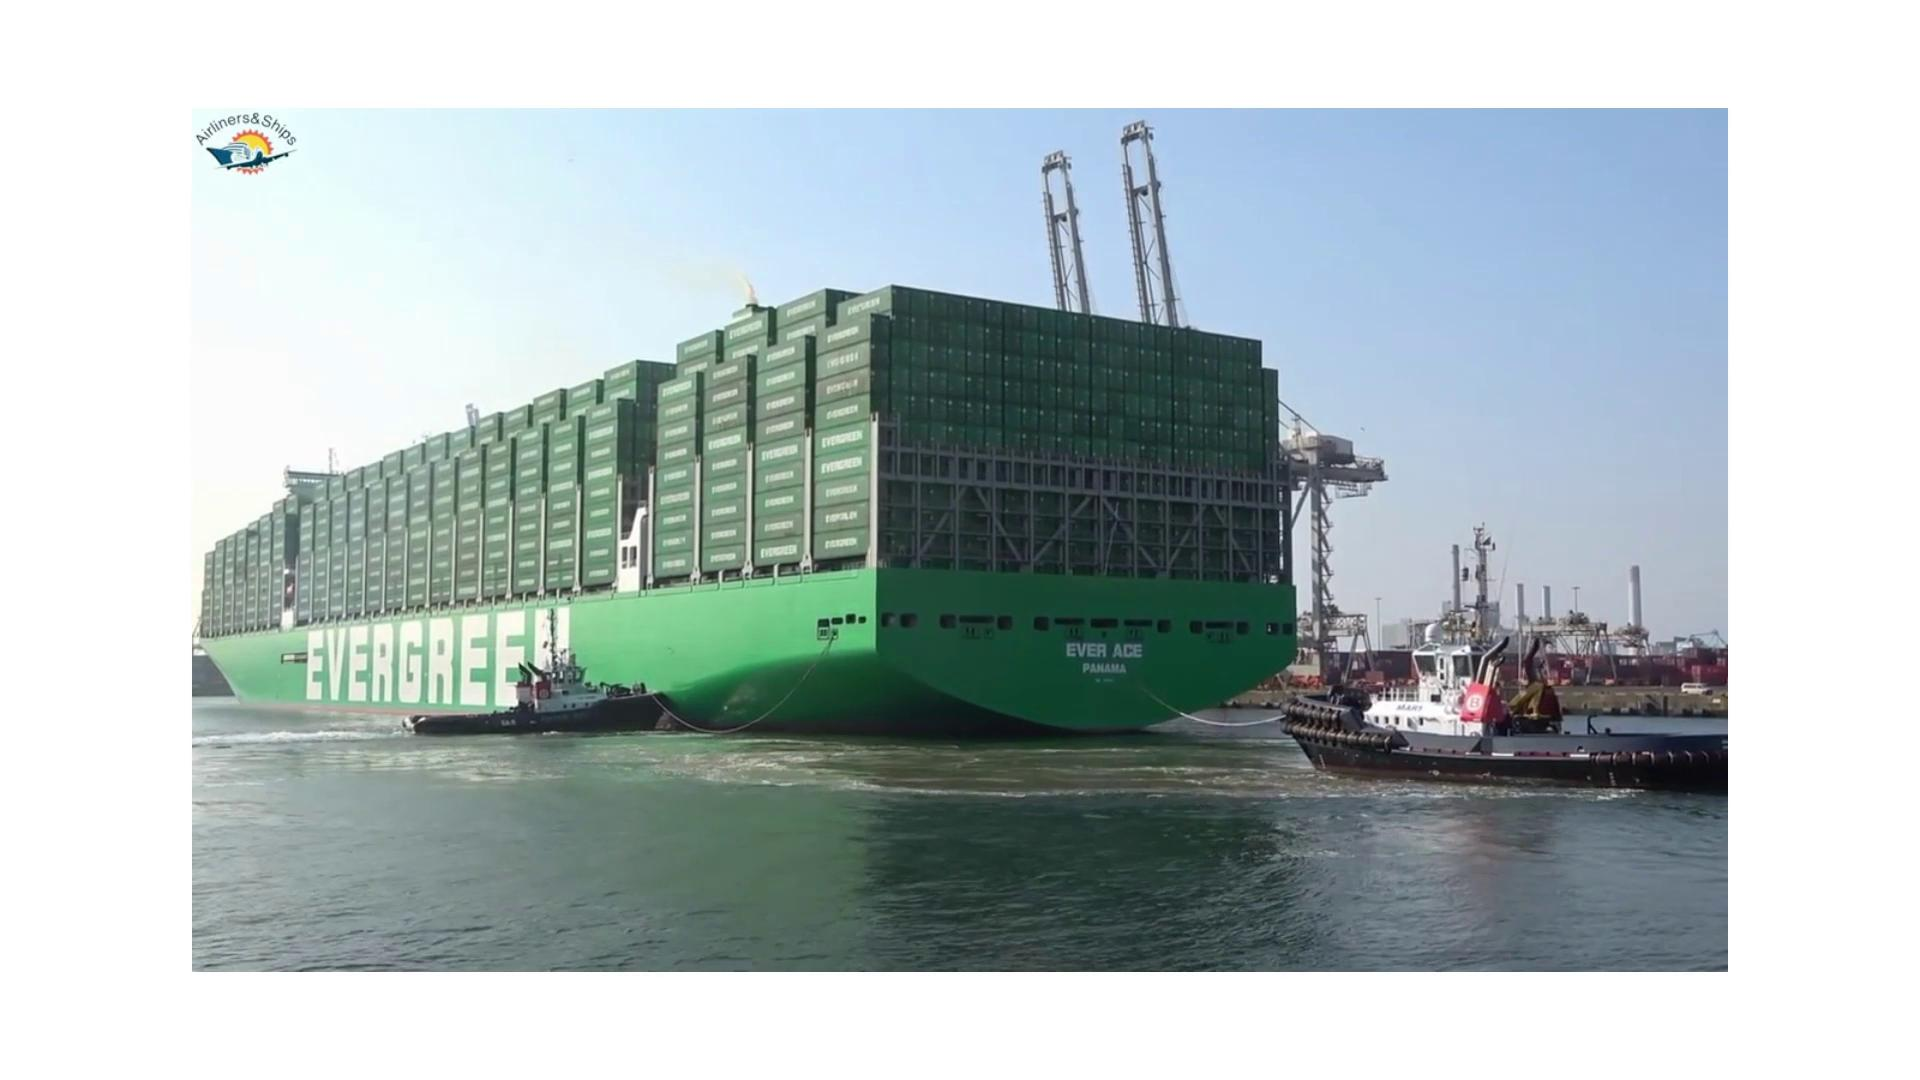OCR: (270, 602, 617, 741), (1032, 621, 1145, 690)
